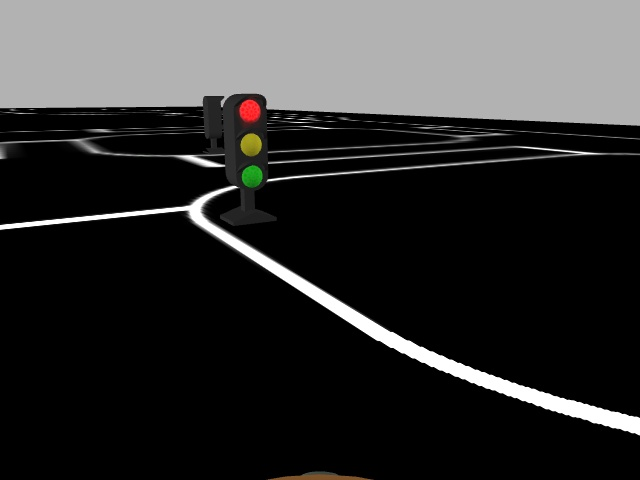red_light: (227, 93, 272, 192)
